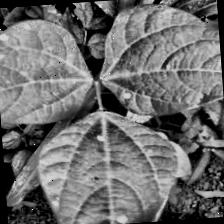Bean Rust: (31, 105, 179, 224), (95, 0, 224, 117), (0, 16, 96, 124)
